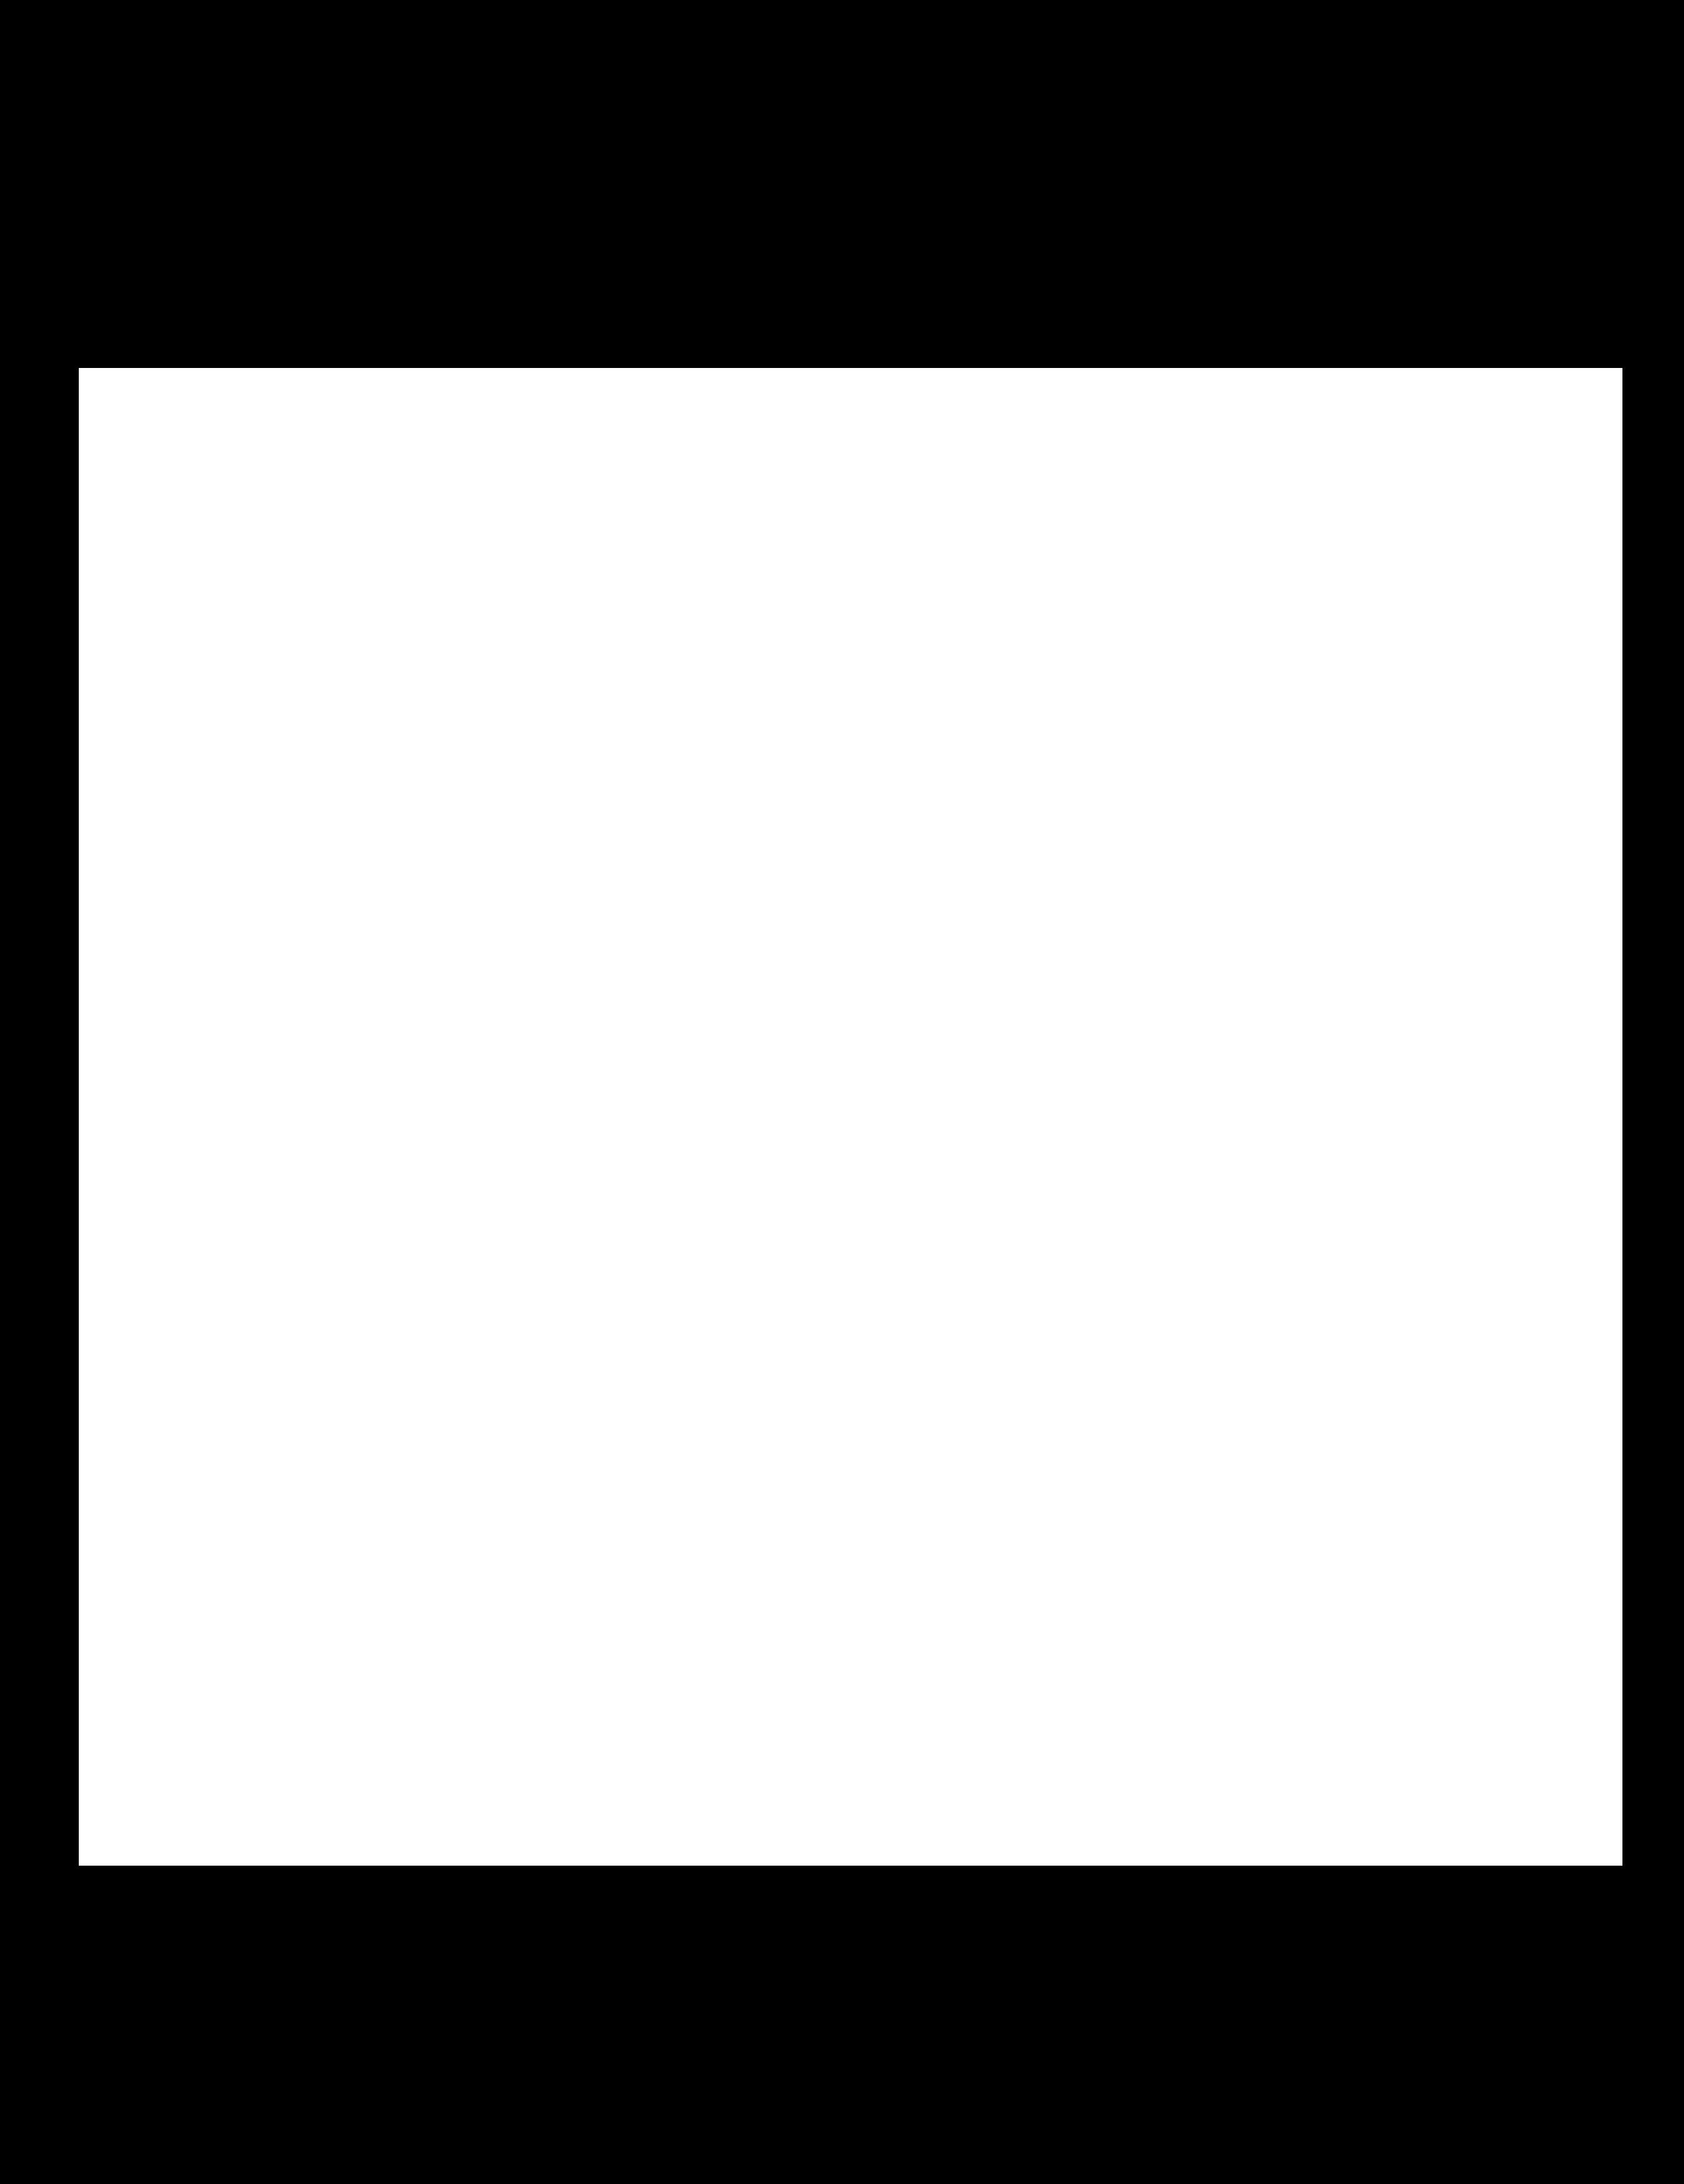table: (80, 368, 1622, 1866)
